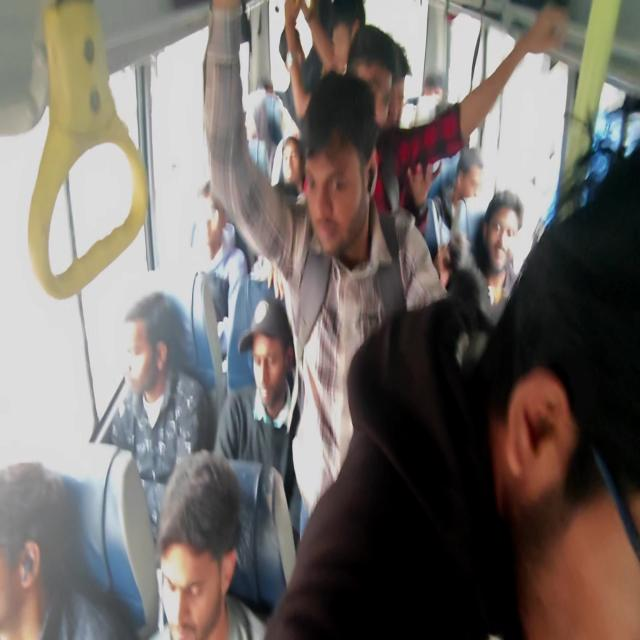person: (489, 128, 635, 511), (302, 70, 379, 253), (157, 450, 242, 564), (0, 462, 68, 578), (463, 188, 522, 319), (226, 268, 284, 399), (120, 290, 184, 402), (328, 0, 366, 70), (280, 134, 308, 197), (486, 190, 524, 235), (246, 137, 272, 185), (457, 146, 485, 177), (423, 73, 444, 100), (256, 75, 272, 92)
